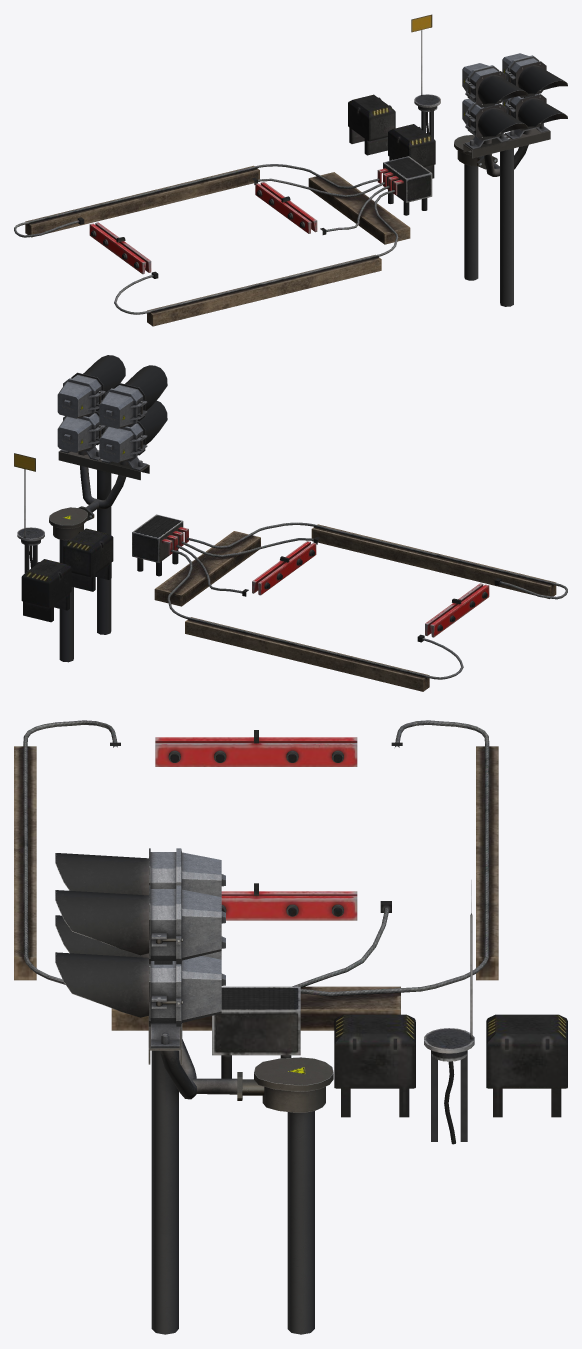
File: RM_sig_P_KM1_2+2_exit.gltf
3 renders of one model, top to bottom at view 1: azimuth 30°, elevation 25°; view 2: azimuth 150°, elevation 25°; view 3: azimuth 270°, elevation 25°, orthographic. The views are drawn at different scales.
Visible parts, largest first — view 1: Изостык, Cylinder001, Box002, Box003; view 2: Изостык, Cylinder001, Box002, Box003; view 3: Изостык, Cylinder001, Box003, Box002.
Part boxes in pixels (x1,y1,x2,y2): Изостык: [14, 14, 440, 326]; Cylinder001: [454, 128, 550, 306]; Box002: [462, 63, 527, 149]; Box003: [502, 53, 567, 139]; Изостык: [14, 453, 567, 691]; Cylinder001: [49, 450, 149, 662]; Box002: [99, 365, 167, 470]; Box003: [57, 355, 125, 460]; Изостык: [14, 720, 567, 1144]; Cylinder001: [148, 1016, 333, 1334]; Box003: [55, 885, 225, 1047]; Box002: [55, 848, 225, 959].
Bounding box in the file's own units: 4.37 × 2.2 × 2.43.
Materials: 2 (2 with a texture image).
